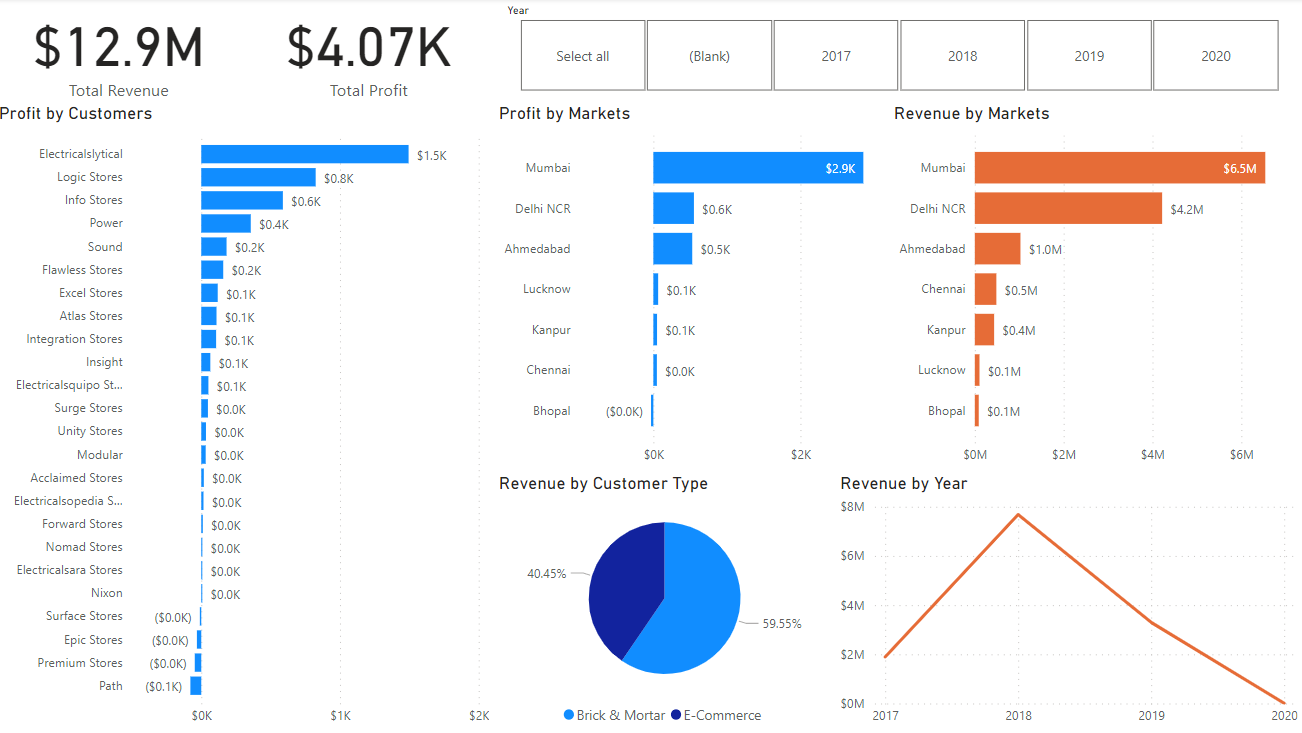

What the dashboard file says about the page in this screenshot:
{"tool":"powerbi","page":{"name":"Page 1","canvas":[1280,720],"ordinal":0},"visuals":[{"type":"card","fields":{"Values":["transactions.Total Revenue"]},"box":[0,0,244.5,102.7],"z":0},{"type":"slicer","fields":{"Values":["date.year"]},"box":[489,0,790.9,97.8],"z":1000},{"type":"barChart","title":"Profit by Customers","fields":{"Category":["customers.custmer_name"],"Y":["transactions.Total Profit"]},"box":[0,102.7,489,617.3],"z":2000},{"type":"barChart","title":"Profit by Markets","fields":{"Category":["markets.markets_name"],"Y":["transactions.Total Profit"]},"box":[489,102.7,386.3,361.8],"z":3000},{"type":"barChart","title":"Revenue by Markets","fields":{"Category":["markets.markets_name"],"Y":["transactions.Total Revenue"]},"box":[875.2,102.7,404.6,361.8],"z":4000},{"type":"card","fields":{"Values":["transactions.Total Profit"]},"box":[244.5,0,244.5,102.7],"z":5000},{"type":"pieChart","title":"Revenue by Customer Type","fields":{"Category":["customers.customer_type"],"Y":["transactions.Total Revenue"]},"box":[489,464.5,333.7,255.5],"z":6000},{"type":"lineChart","title":"Revenue by Year","fields":{"Category":["date.year"],"Y":["transactions.Total Revenue"]},"box":[822.7,464.5,457.2,255.5],"z":7000}]}

Visuals, with their boxes in screenshot pixels (x1, y1, x2, y2), scaled from the page's 1280x720 canvas onto the 1302x733 screenshot:
card - transactions.Total Revenue: [0,0,249,105]
slicer - date.year: [497,0,1301,100]
"Profit by Customers" barChart: [0,105,497,732]
"Profit by Markets" barChart: [497,105,890,473]
"Revenue by Markets" barChart: [890,105,1301,473]
card - transactions.Total Profit: [249,0,497,105]
"Revenue by Customer Type" pieChart: [497,473,837,732]
"Revenue by Year" lineChart: [837,473,1301,732]
